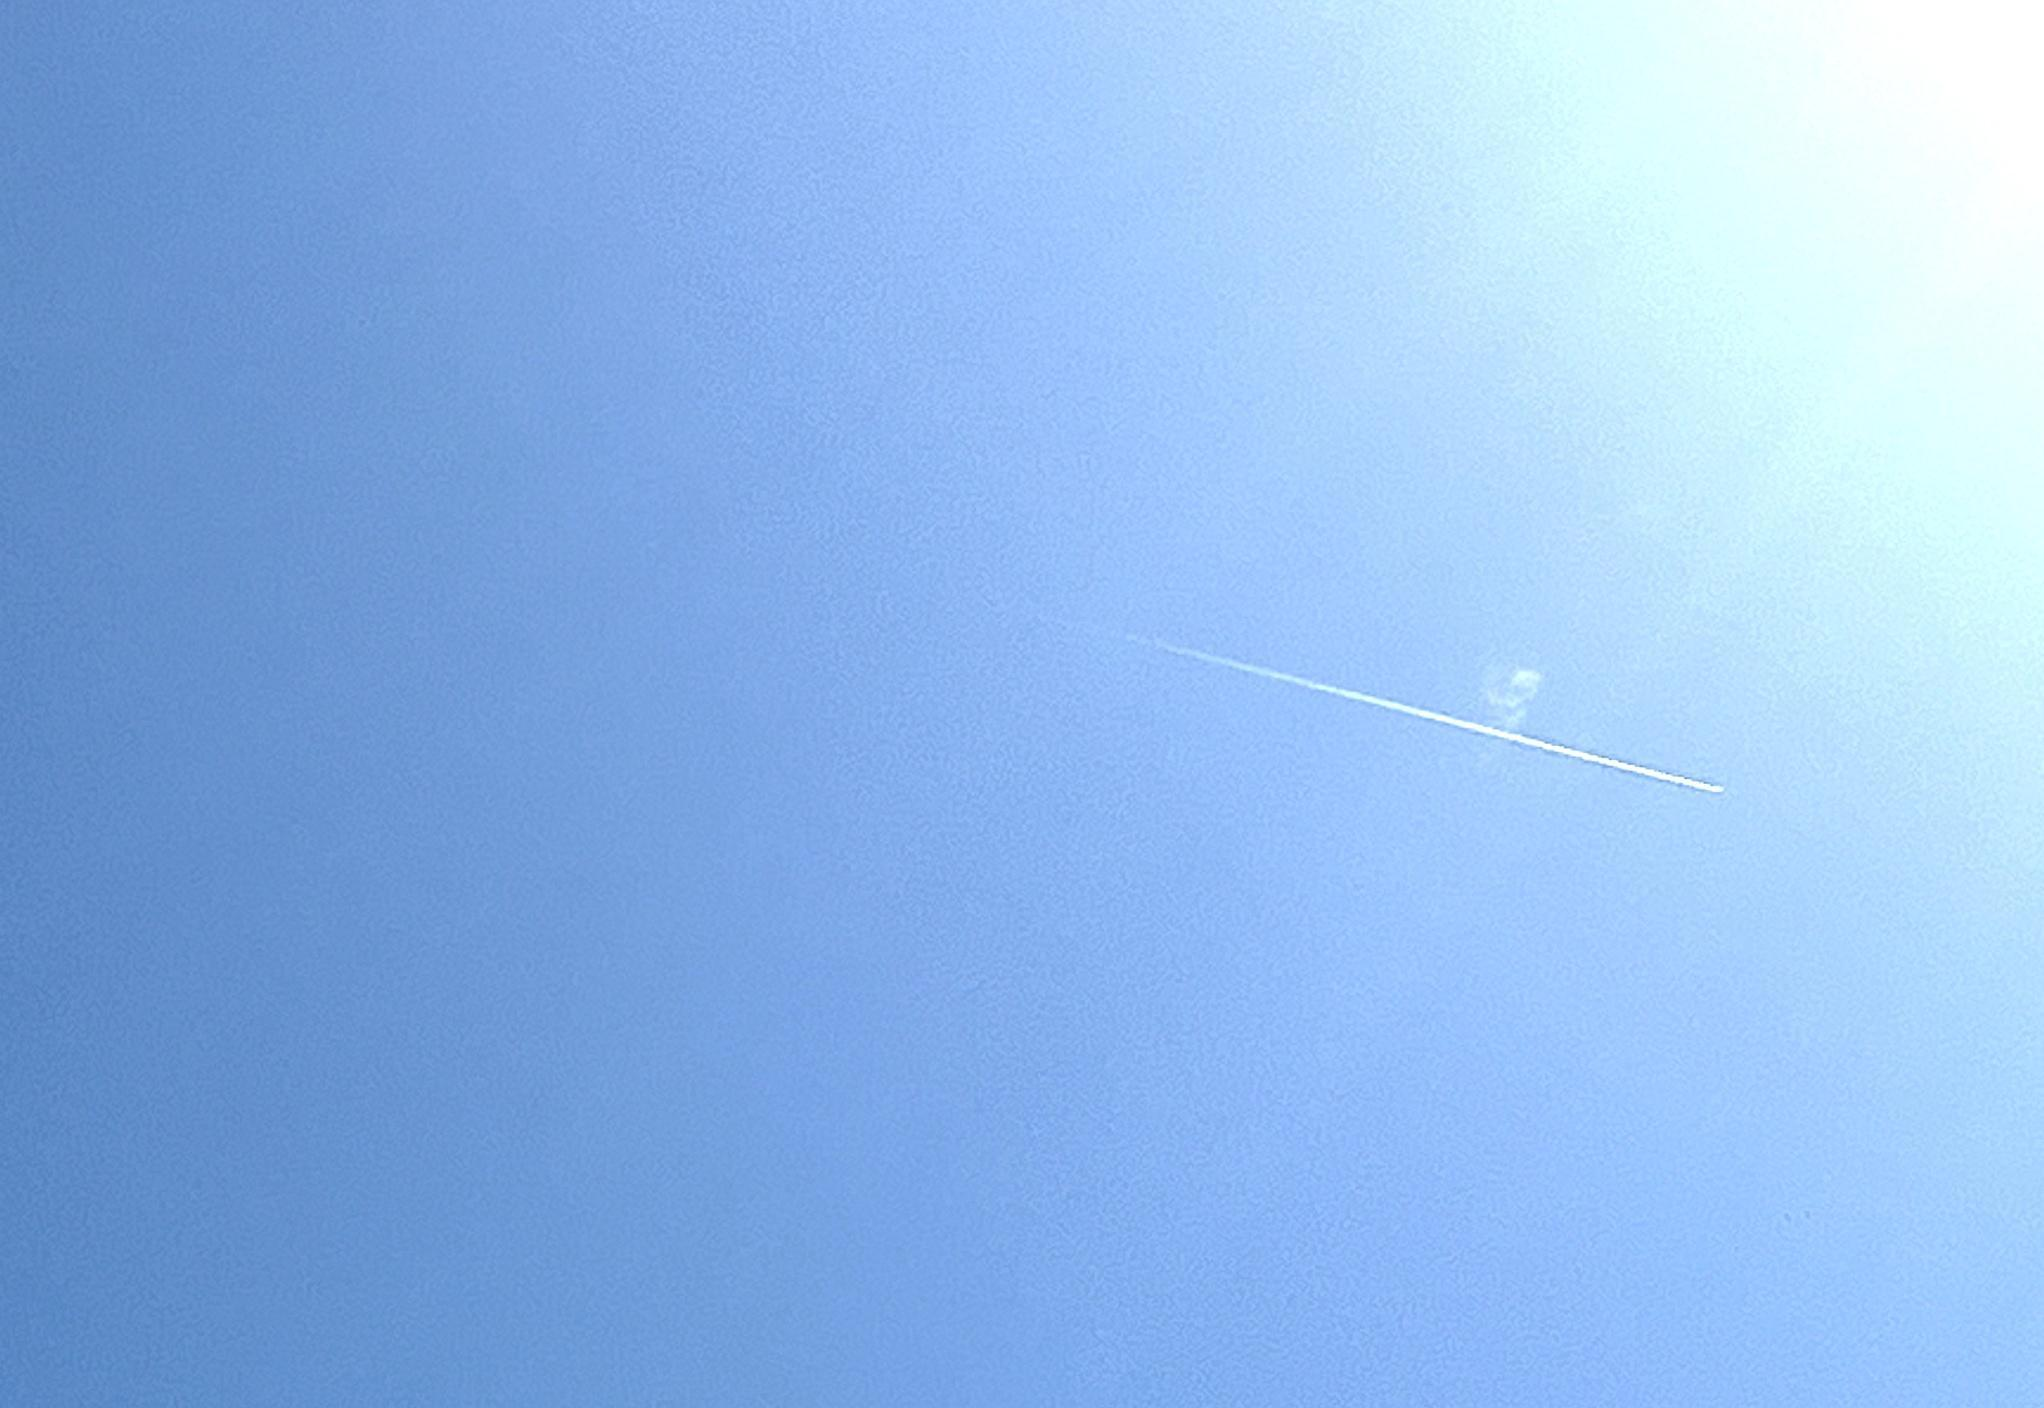Plane: (1103, 630, 1757, 820)
